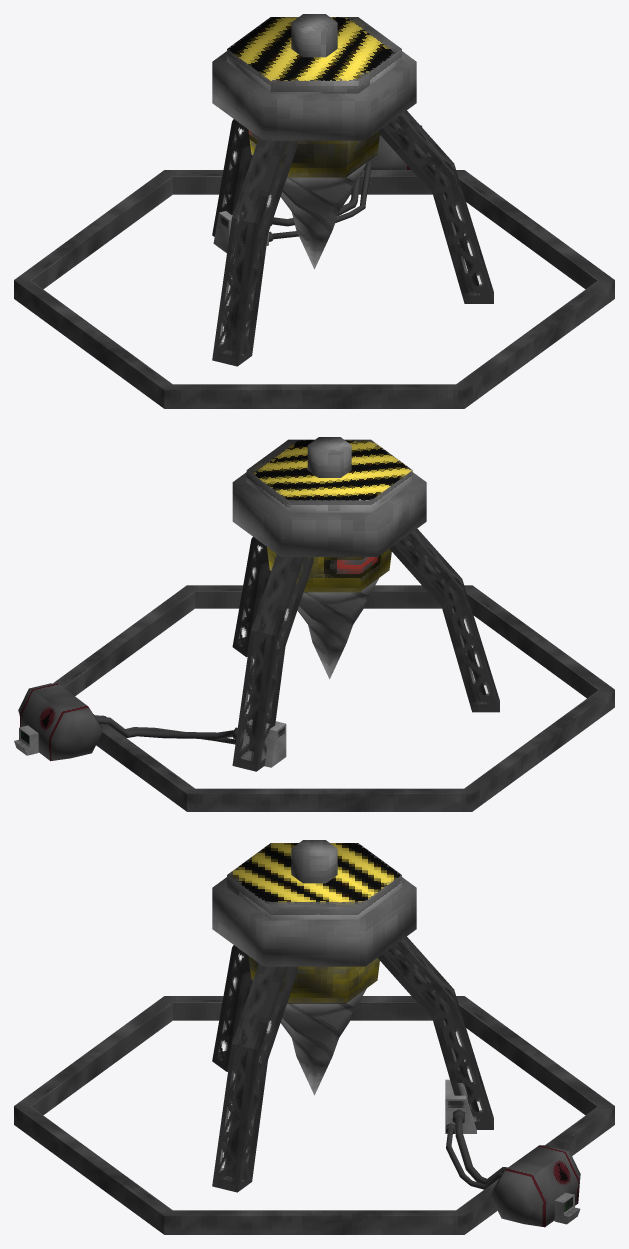
File: Drill.glb
The picture shows the model from 3 angles, top to bottom: view 1: azimuth 30°, elevation 25°; view 2: azimuth 150°, elevation 25°; view 3: azimuth 270°, elevation 25°; orthographic projection. The views are drawn at different scales.
Parts seen in each view (by area): view 1: Ring, DrillHolder, DrillLegs, Drill, OilTank, Cable, PowerThing; view 2: Ring, DrillHolder, DrillLegs, Drill, OilTank, PowerThing, CableFat; view 3: Ring, DrillHolder, DrillLegs, Drill, OilTank, PowerThing, CableFat, Cable, Computer.
Part boxes in pixels (box(x1,y1,x2,y2)): Ring: box(14, 170, 614, 408); DrillHolder: box(212, 14, 416, 140); DrillLegs: box(212, 110, 493, 366); Drill: box(248, 130, 379, 269); OilTank: box(363, 125, 422, 169); Cable: box(269, 161, 371, 241); PowerThing: box(213, 211, 268, 253); Ring: box(53, 585, 614, 811); DrillHolder: box(232, 437, 426, 556); DrillLegs: box(232, 528, 499, 771); Drill: box(267, 547, 391, 679); OilTank: box(18, 683, 102, 761); PowerThing: box(240, 719, 286, 767); CableFat: box(96, 717, 237, 739); Ring: box(14, 996, 614, 1234); DrillHolder: box(212, 840, 416, 966); DrillLegs: box(212, 936, 493, 1192); Drill: box(248, 956, 379, 1095); OilTank: box(490, 1145, 580, 1227); PowerThing: box(445, 1079, 476, 1133); CableFat: box(452, 1109, 507, 1184); Cable: box(446, 1123, 503, 1189); Computer: box(554, 1192, 580, 1224).
Bounding box in the file's own units: 9.43 × 5.53 × 10.89.
Materials: 9 (8 with a texture image).
